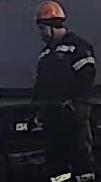helmet: (35, 0, 66, 22)
vest: (29, 30, 98, 112)
